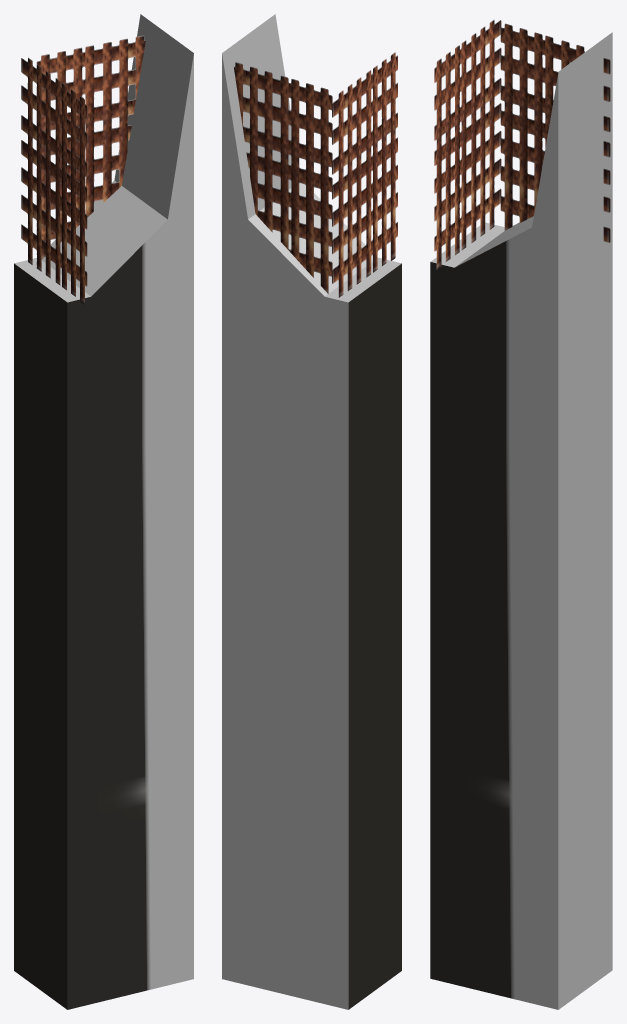
File: Pillar_3.fbx
3 views of the same model, side by side, from view 1: azimuth 30°, elevation 25°; view 2: azimuth 150°, elevation 25°; view 3: azimuth 330°, elevation 25° (orthographic).
Visible parts, largest first — view 1: Cube.002, Plane.001, Plane.004; view 2: Cube.002, Plane.004, Plane.001; view 3: Cube.002, Plane.001, Plane.004.
Part boxes in pixels (x1,y1,x2,y2): Cube.002: (14, 14, 193, 1009); Plane.001: (21, 57, 87, 304); Plane.004: (36, 35, 145, 259); Cube.002: (222, 14, 401, 1009); Plane.004: (234, 62, 332, 293); Plane.001: (332, 52, 397, 297); Cube.002: (430, 32, 612, 1009); Plane.001: (434, 20, 501, 269); Plane.004: (500, 23, 610, 242).
Size of the model in its own units: 30.27 by 200 by 26.08.
